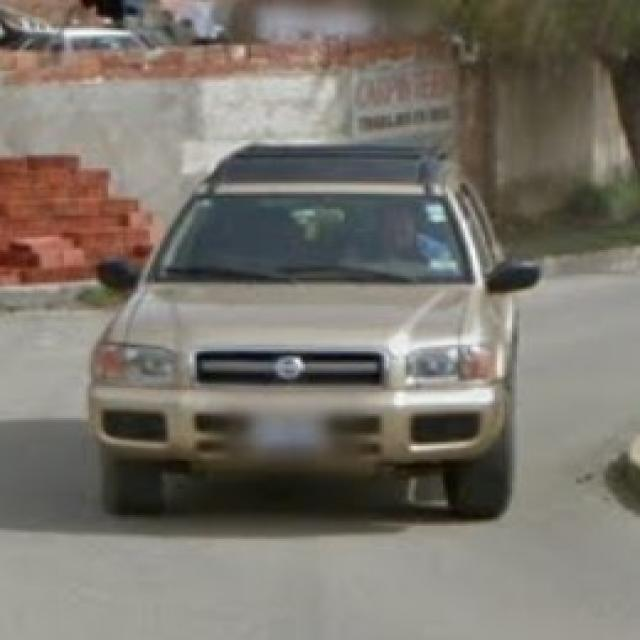Car: (90, 151, 510, 515)
